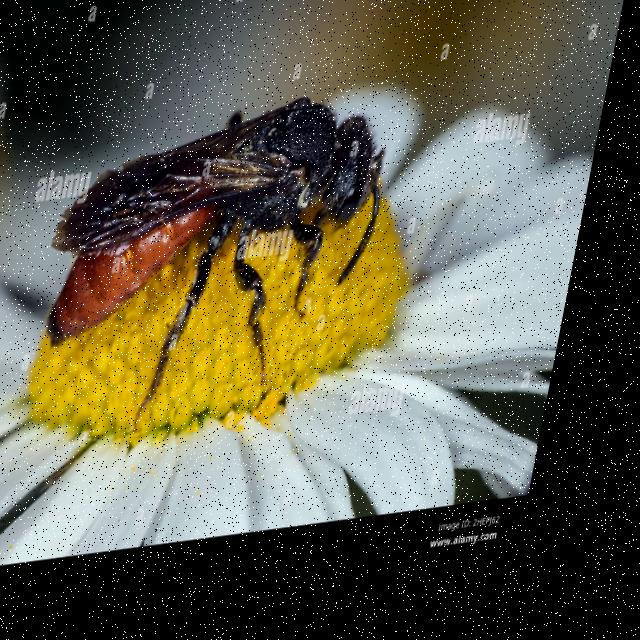Allodapula: (25, 81, 418, 449)
